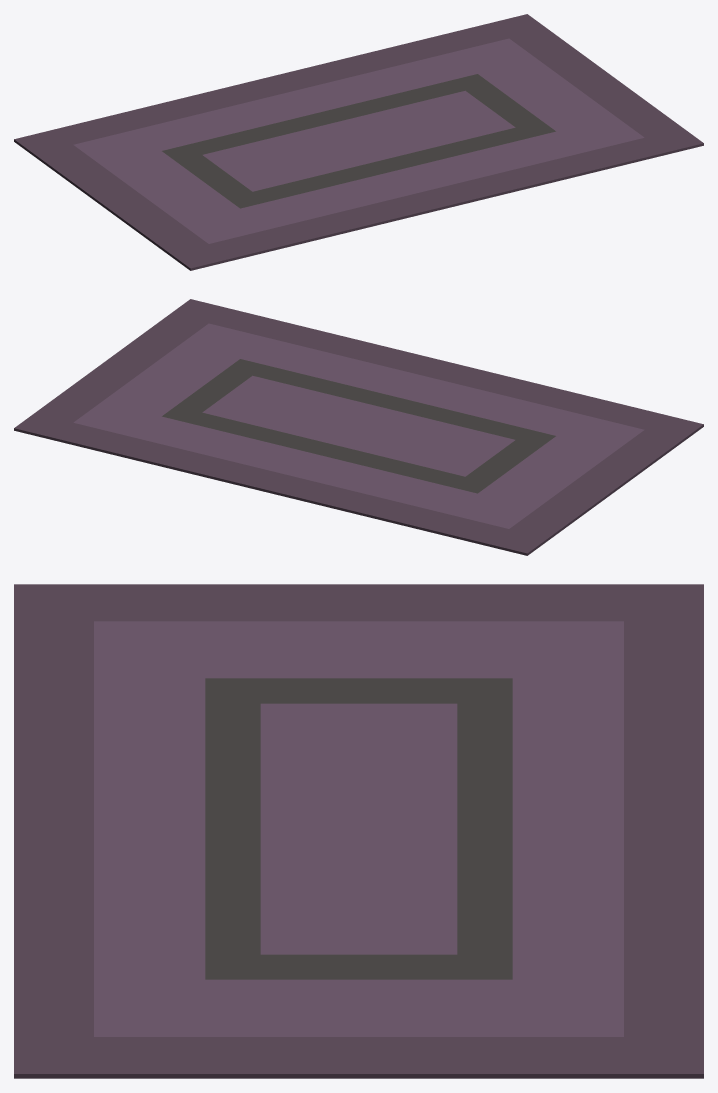
Rendered from SD_Prop_Rug_Purple_Small_01.fbx.
3 renders of one model, top to bottom at view 1: azimuth 30°, elevation 25°; view 2: azimuth 150°, elevation 25°; view 3: azimuth 270°, elevation 25°, orthographic. The views are drawn at different scales.
Visible parts, largest first — view 1: SD_Prop_Rug_Purple_Small_01; view 2: SD_Prop_Rug_Purple_Small_01; view 3: SD_Prop_Rug_Purple_Small_01.
Part boxes in pixels (x1=…): SD_Prop_Rug_Purple_Small_01: x1=14, y1=14, x2=703, y2=270; SD_Prop_Rug_Purple_Small_01: x1=14, y1=299, x2=703, y2=555; SD_Prop_Rug_Purple_Small_01: x1=14, y1=584, x2=703, y2=1078.
Size of the model in its own units: 4.41 by 0.0203 by 2.63.
